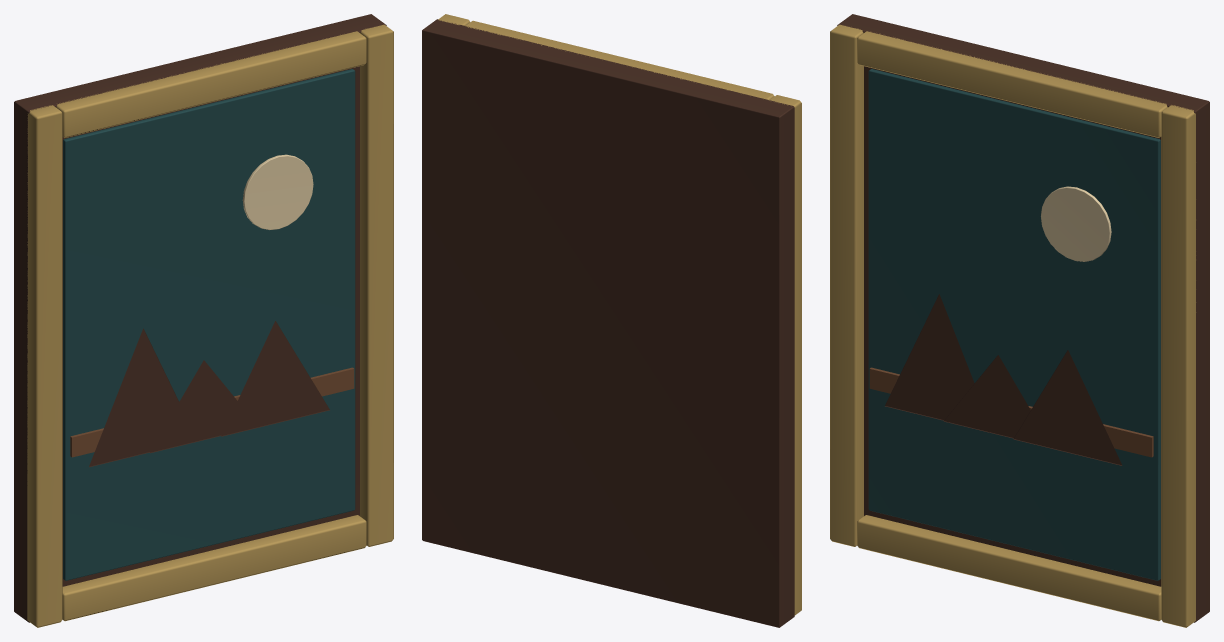
The model's file is rpg-mansion-frame-01.glb.
3 renders of one model, left to right at view 1: azimuth 30°, elevation 25°; view 2: azimuth 150°, elevation 25°; view 3: azimuth 330°, elevation 25°, orthographic.
Parts seen in each view (by area): view 1: rpg-mansion-frame-01; view 2: rpg-mansion-frame-01; view 3: rpg-mansion-frame-01.
Part boxes in pixels (box(x1,y1,x2,y2)): rpg-mansion-frame-01: box(14, 14, 393, 627); rpg-mansion-frame-01: box(422, 14, 801, 627); rpg-mansion-frame-01: box(830, 14, 1209, 627).
Bounding box in the file's own units: 0.66 × 0.9 × 0.075.
